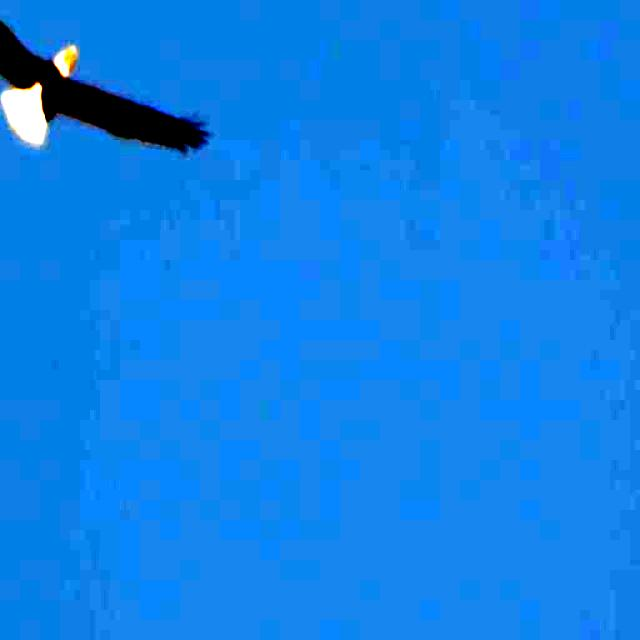airplane: (0, 0, 202, 166)
